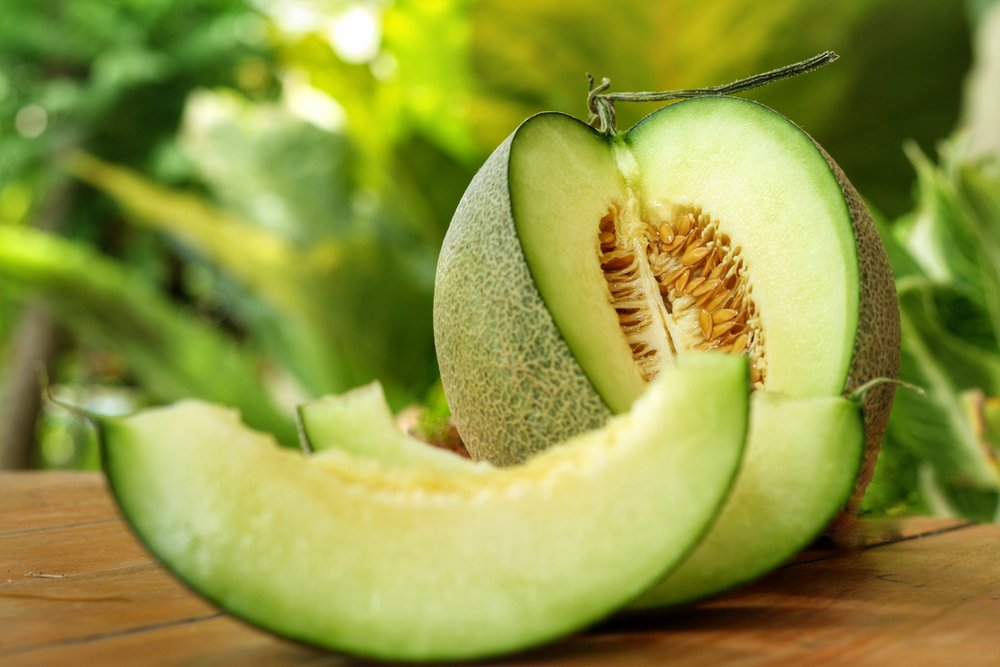Melon: (109, 339, 750, 667)
